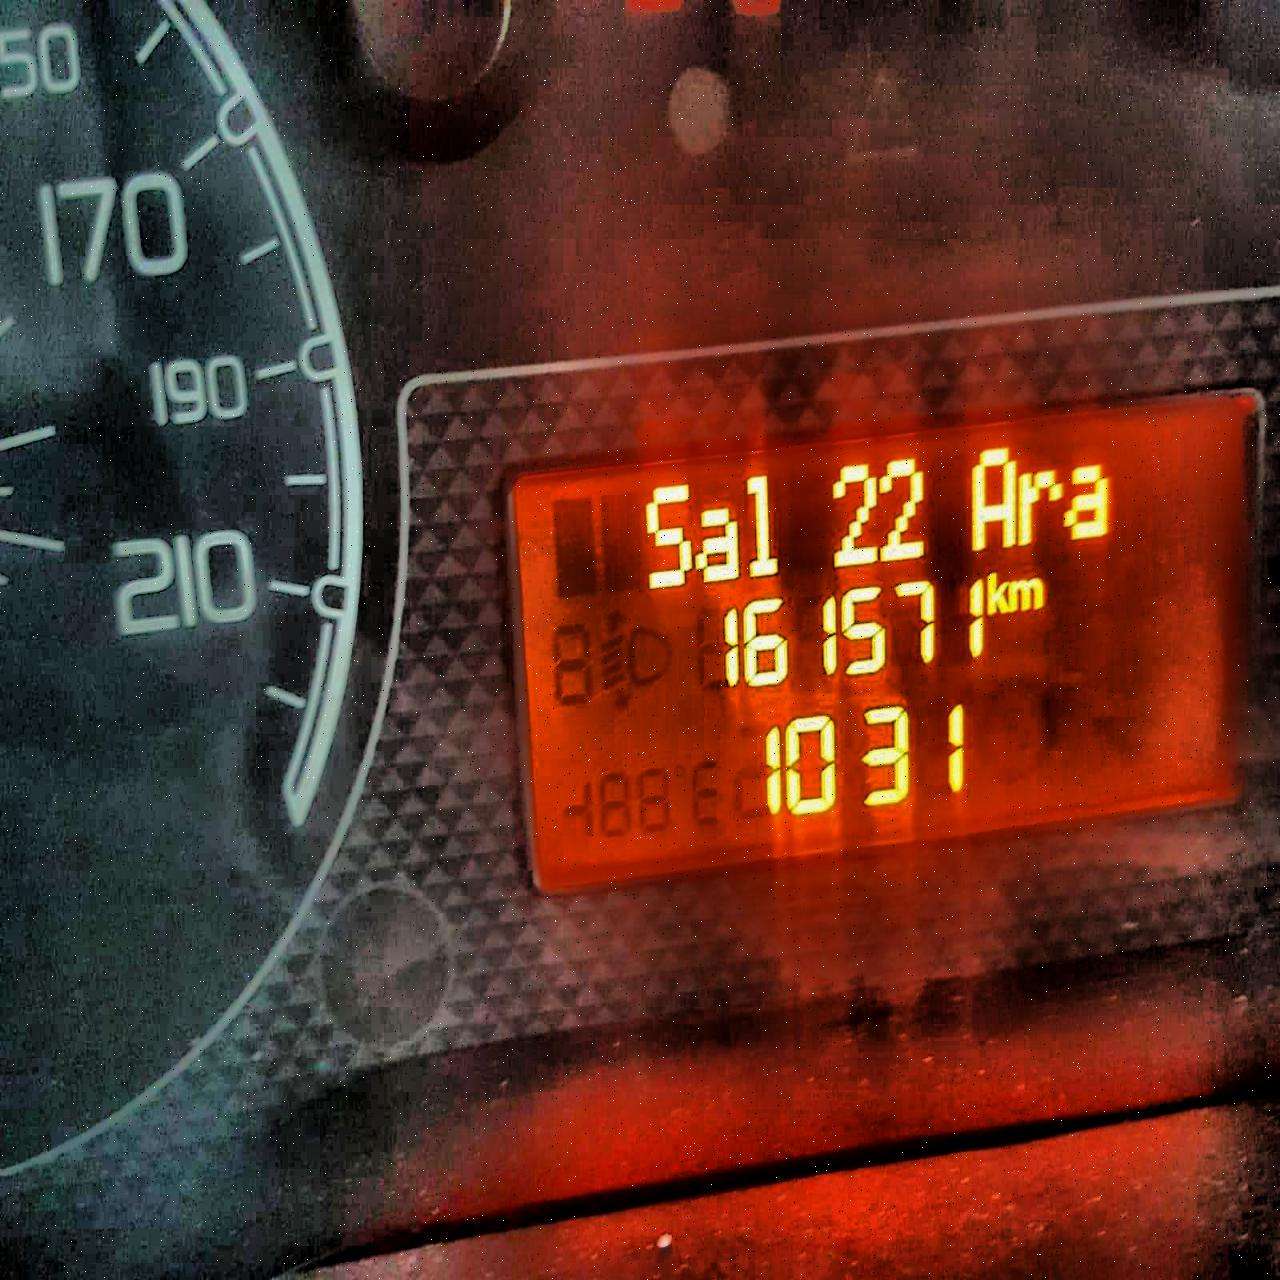0: (784, 710, 837, 824)
1: (941, 689, 974, 810), (757, 710, 782, 832), (815, 586, 839, 685), (715, 597, 738, 697), (965, 574, 986, 678)
2: (879, 447, 928, 568), (828, 459, 878, 574)
3: (858, 690, 918, 816)
5: (844, 579, 887, 679)
6: (741, 595, 794, 694)
7: (896, 576, 948, 672)
X: (639, 479, 692, 598), (968, 434, 1019, 553), (742, 470, 783, 584), (1067, 458, 1115, 550), (692, 498, 741, 587), (1017, 467, 1061, 544), (1007, 573, 1047, 615), (988, 564, 1007, 619)
odometer: (505, 381, 1258, 911)
